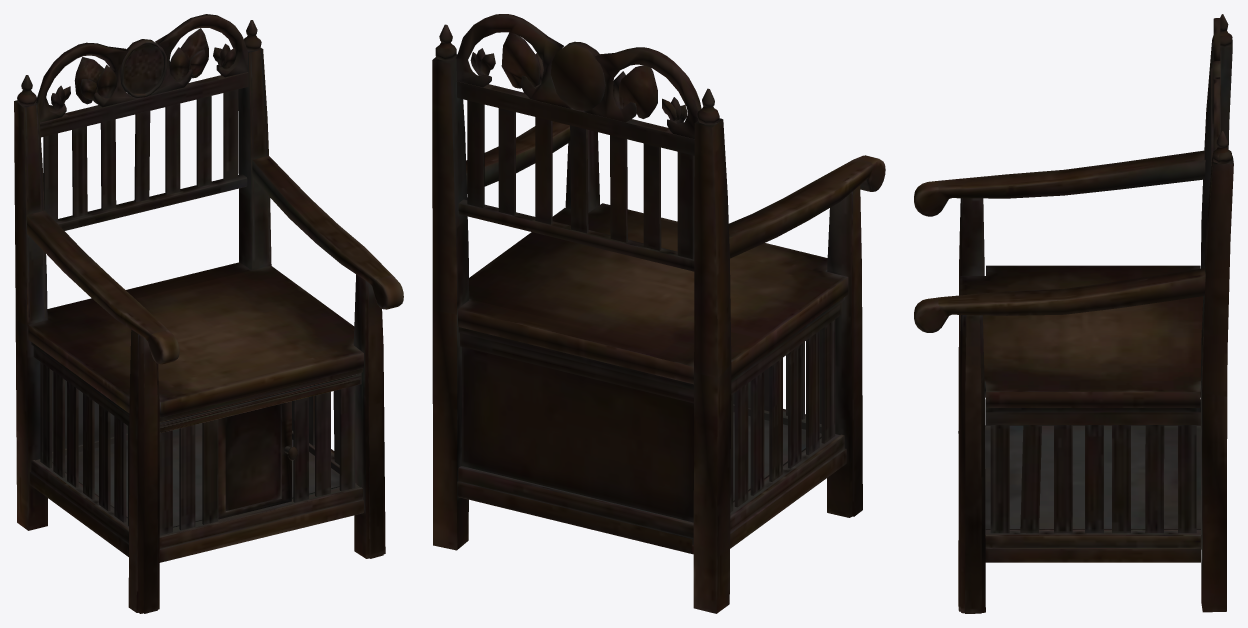
File: gallinera_chair.glb
The picture shows the model from 3 angles, left to right: view 1: azimuth 30°, elevation 25°; view 2: azimuth 150°, elevation 25°; view 3: azimuth 270°, elevation 25°; orthographic projection. The views are drawn at different scales.
Visible parts, largest first — view 1: gallinera_chair; view 2: gallinera_chair; view 3: gallinera_chair.
Part boxes in pixels (x1,y1,x2,y2): gallinera_chair: (14,14,403,613); gallinera_chair: (432,14,885,613); gallinera_chair: (914,14,1233,613).
Size of the model in its own units: 0.58 by 1.03 by 0.6035.
Materials: 1 (1 with a texture image).
